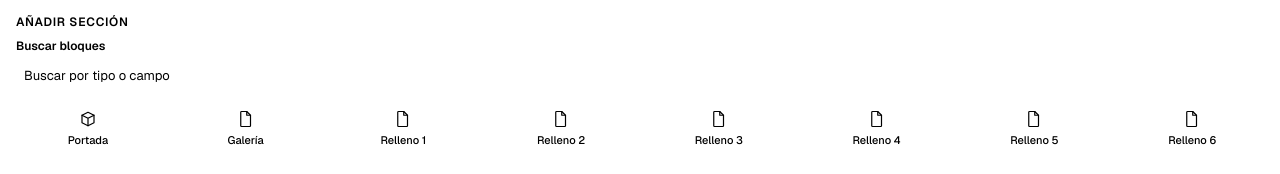
Test: VisualPalette.svelte › un campo al final de una descripción larga sigue encontrando la tarjeta
The image size is (1280, 174).
Type "campo 8" into the search field labelled "Buscar bloques" at x=640, y=75, box [12,58,1268,92]
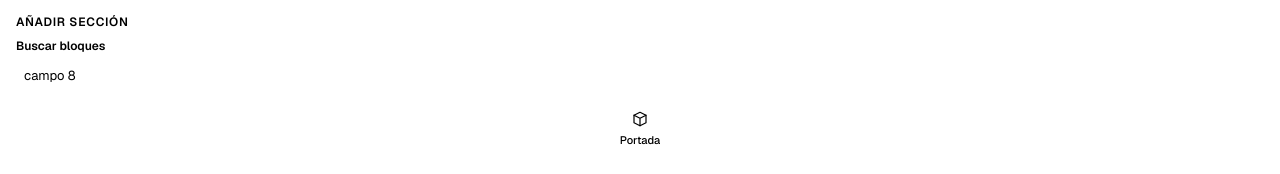
Expected: the text "Portada" is shown, [620,134,660,148]
Result: the number of buttons is 1 at [12,100,1268,158]
